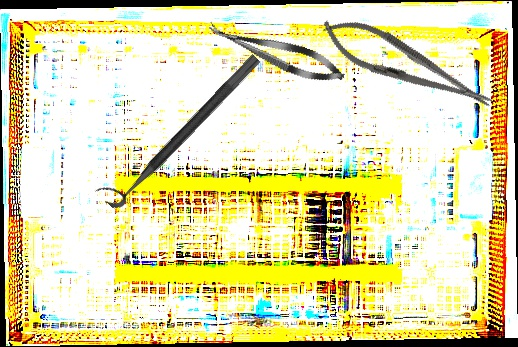Fixation Ring: (94, 41, 262, 213)
Micro Scissor: (203, 14, 349, 91)
Needle Holder: (312, 5, 501, 125)
